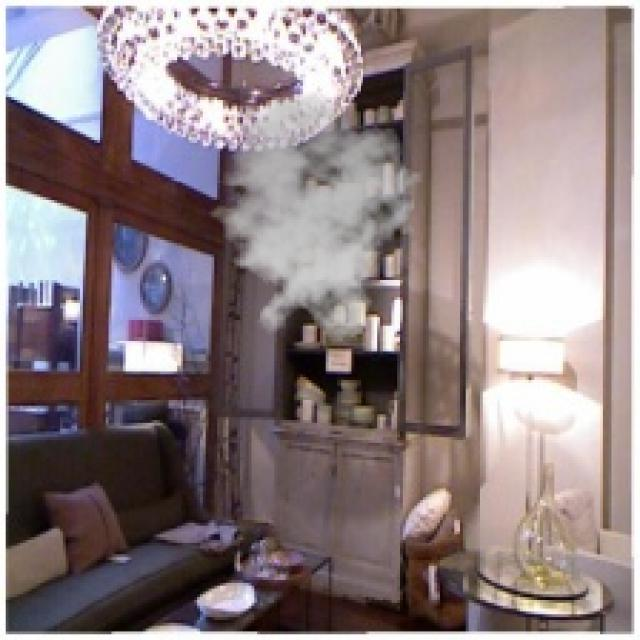smoke: (197, 91, 429, 343)
